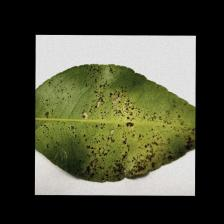canker: (71, 75, 174, 176)
